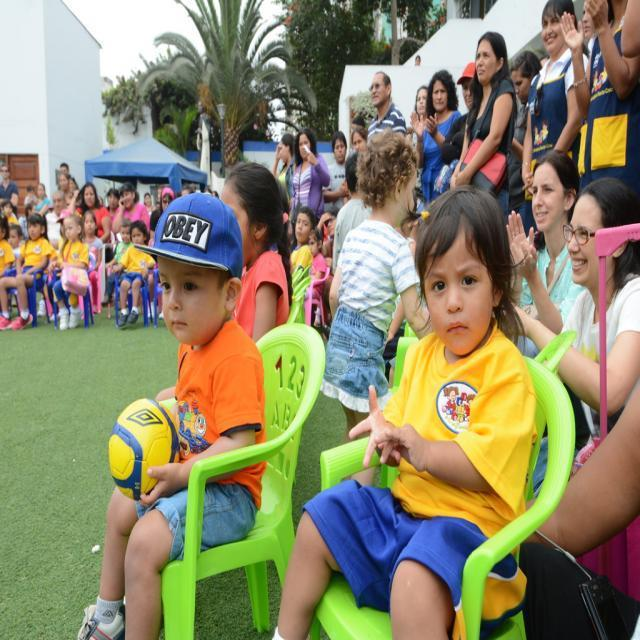football: (106, 389, 187, 502)
